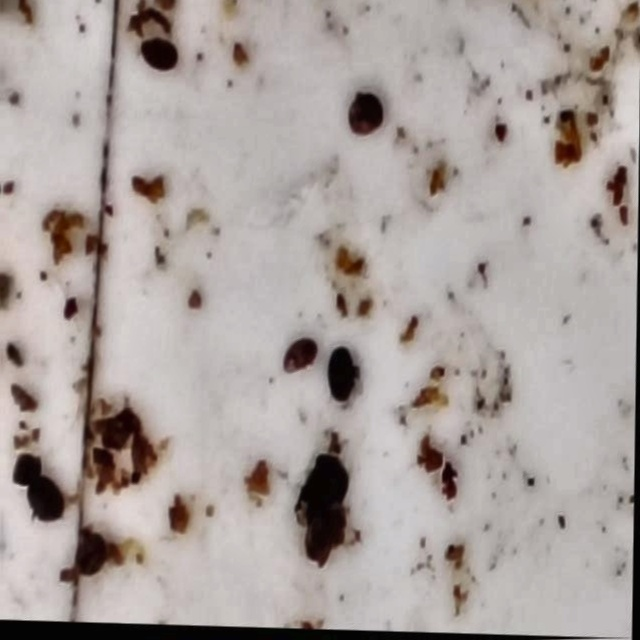varroa: (323, 349, 358, 408), (23, 483, 67, 529), (68, 535, 112, 581), (342, 94, 384, 142), (134, 39, 180, 82), (281, 342, 317, 381), (12, 458, 43, 493)
